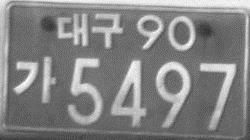0: (168, 14, 196, 52)
4: (109, 56, 148, 128)
5: (65, 56, 103, 127)
7: (196, 60, 238, 132)
9: (153, 60, 194, 130), (136, 13, 164, 52)
가: (13, 54, 57, 103)
대구_O: (56, 10, 123, 49)
